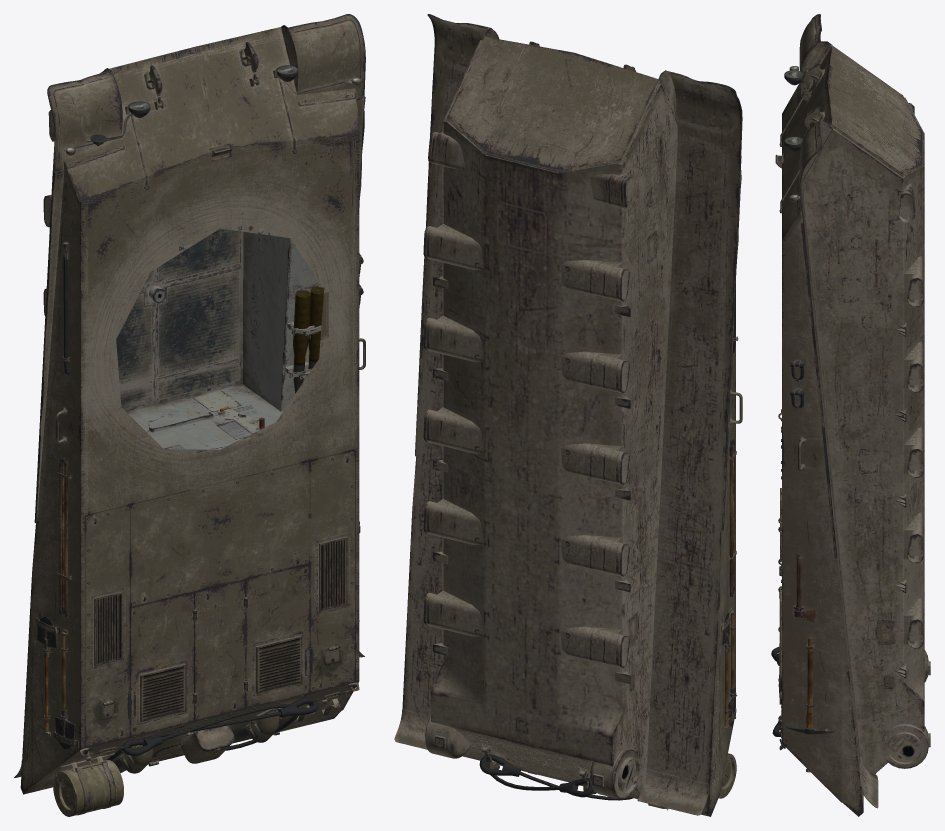
Rendered from Hull.glb.
The picture shows the model from 3 angles, left to right: view 1: azimuth 30°, elevation 25°; view 2: azimuth 150°, elevation 25°; view 3: azimuth 270°, elevation 25°; orthographic projection. The views are drawn at different scales.
Visible parts, largest first — view 1: set_0_group_0; view 2: set_0_group_0; view 3: set_0_group_0.
Part boxes in pixels (left/top/right/bottom): set_0_group_0: left=14, top=14, right=365, bottom=816; set_0_group_0: left=394, top=14, right=742, bottom=816; set_0_group_0: left=771, top=14, right=930, bottom=816.
Bounding box in the file's own units: 3.17 × 7.11 × 1.52.
1 material, 1 textured.
